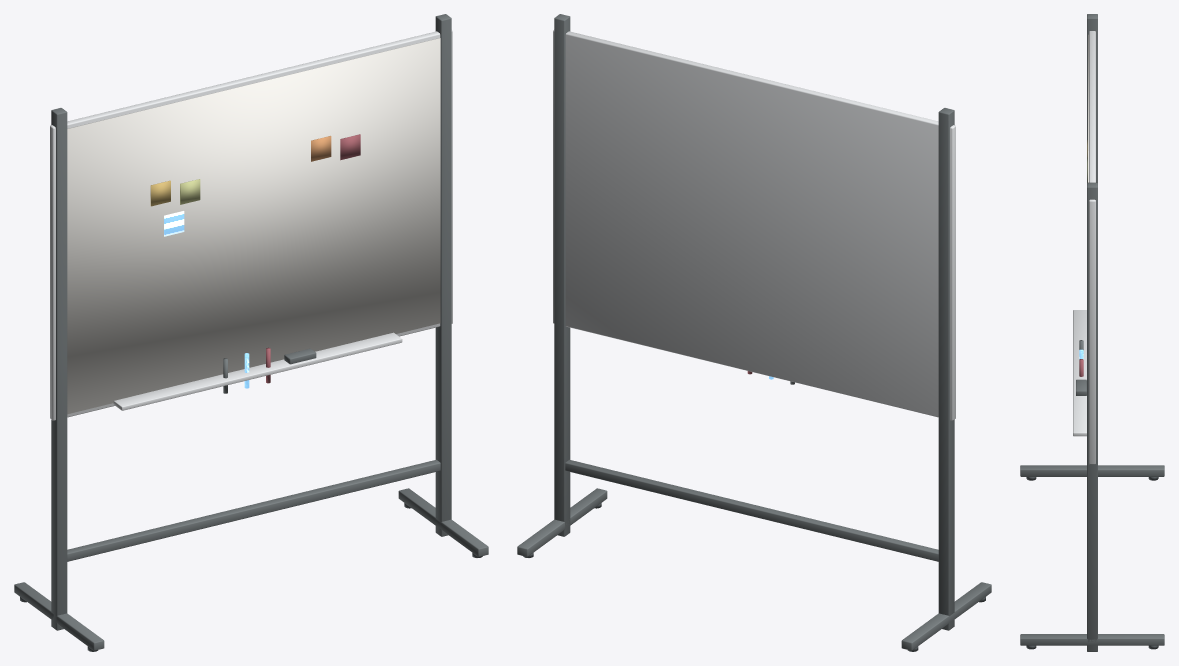
The model's file is tech.whiteboard.glb.
3 renders of one model, left to right at view 1: azimuth 30°, elevation 25°; view 2: azimuth 150°, elevation 25°; view 3: azimuth 270°, elevation 25°, orthographic. The views are drawn at different scales.
Parts seen in each view (by area): view 1: tech.whiteboard; view 2: tech.whiteboard; view 3: tech.whiteboard.
Boxes of the visible parts, x1,y1,x2,y2 form: tech.whiteboard: (14, 14, 488, 651); tech.whiteboard: (517, 14, 991, 651); tech.whiteboard: (1020, 14, 1164, 651).
Size of the model in its own units: 1.5 by 1.85 by 0.52.
9 materials, 1 textured.
